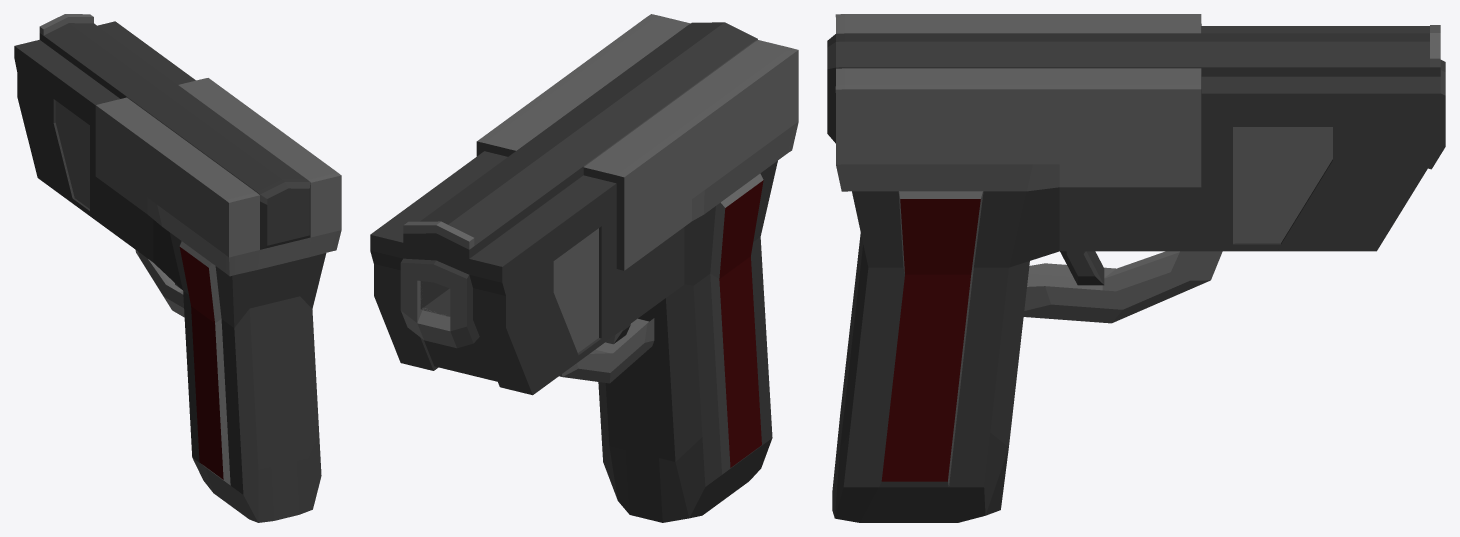
The model's file is gun.fbx.
The picture shows the model from 3 angles, left to right: view 1: azimuth 30°, elevation 25°; view 2: azimuth 150°, elevation 25°; view 3: azimuth 270°, elevation 25°; orthographic projection. The views are drawn at different scales.
Parts seen in each view (by area): view 1: Cube; view 2: Cube; view 3: Cube.
Boxes of the visible parts, <box> form: Cube: <box>14,14,341,522</box>; Cube: <box>370,14,798,522</box>; Cube: <box>827,14,1445,522</box>.
Size of the model in its own units: 196 by 573 by 681.
